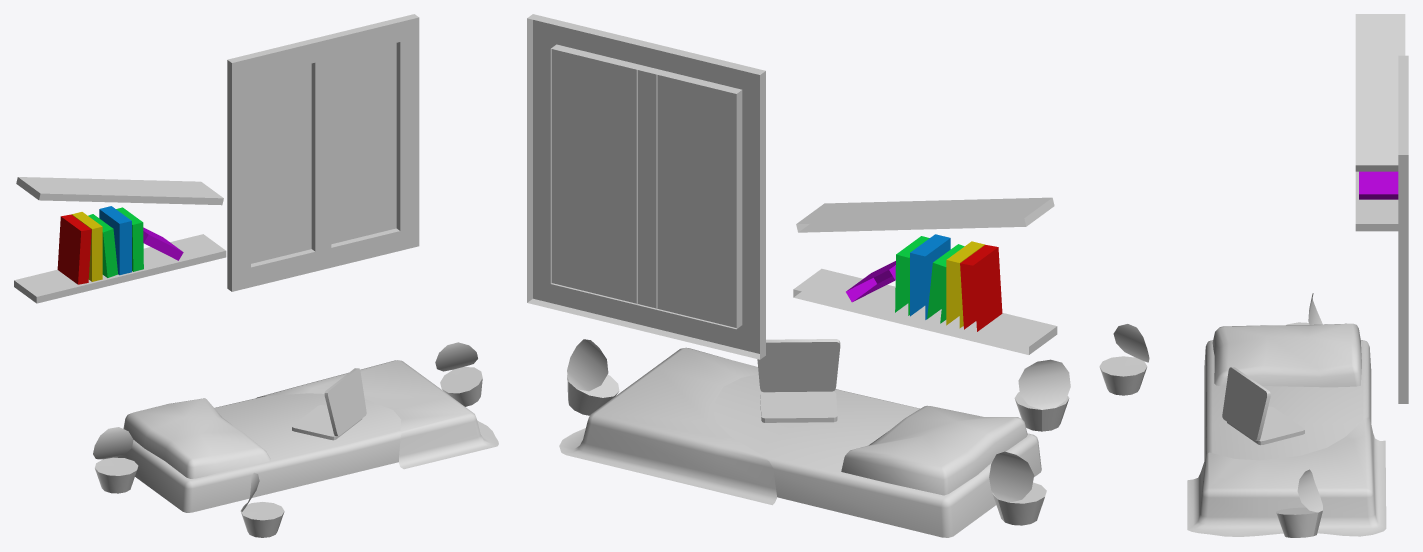
File: room2.fbx
The picture shows the model from 3 angles, left to right: view 1: azimuth 30°, elevation 25°; view 2: azimuth 150°, elevation 25°; view 3: azimuth 270°, elevation 25°; orthographic projection. The views are drawn at different scales.
Visible parts, largest first — view 1: Window.003, Bed.001, Books.001, Shelf.002, Shelf.001, Laptop.001, Lapsha.002, Lapsha.003, Lapsha.001; view 2: Window.003, Bed.001, Books.001, Shelf.002, Shelf.001, Laptop.001, Lapsha.001, Lapsha.002, Lapsha.003; view 3: Bed.001, Shelf.002, Window.003, Laptop.001, Lapsha.001, Lapsha.003, Shelf.001, Books.001.
Boxes of the visible parts, x1,y1,x2,y2 form: Window.003: (227,14,419,291); Bed.001: (114,360,498,512); Books.001: (57,206,183,284); Shelf.002: (16,177,223,205); Shelf.001: (14,234,226,303); Laptop.001: (292,368,366,440); Lapsha.002: (93,427,138,493); Lapsha.003: (435,342,482,406); Lapsha.001: (240,472,284,537); Window.003: (527,14,765,359); Bed.001: (559,347,1041,537); Books.001: (846,234,1002,331); Shelf.002: (796,197,1054,232); Shelf.001: (793,268,1057,354); Laptop.001: (757,339,840,422); Lapsha.001: (1014,359,1070,431); Lapsha.002: (989,451,1046,525); Lapsha.003: (567,339,619,415); Bed.001: (1187,323,1386,536); Shelf.002: (1355,14,1405,171); Window.003: (1398,55,1408,403); Laptop.001: (1222,367,1304,445); Lapsha.001: (1099,324,1149,395); Lapsha.003: (1276,469,1322,537); Shelf.001: (1355,171,1398,231); Books.001: (1359,171,1398,199).
Bounding box in the file's own units: 88.22 × 71.48 × 52.04.
